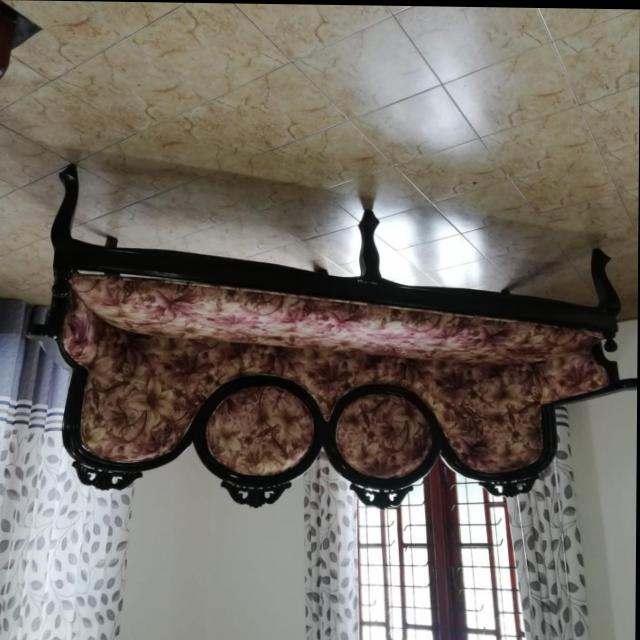Sofa: (24, 163, 639, 514)
